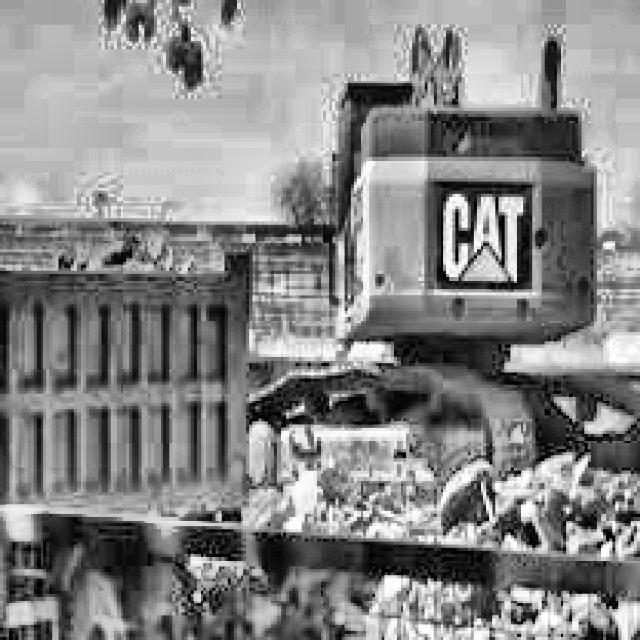dump_truck: (0, 151, 249, 640)
excavator: (246, 12, 640, 542)
